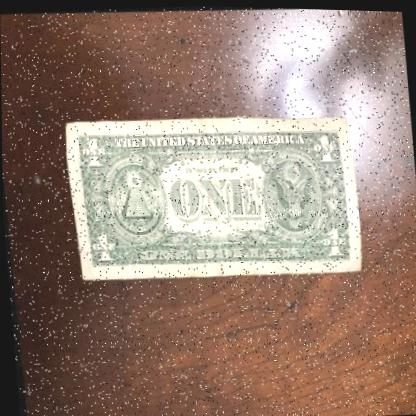one-back: (61, 100, 364, 292)
